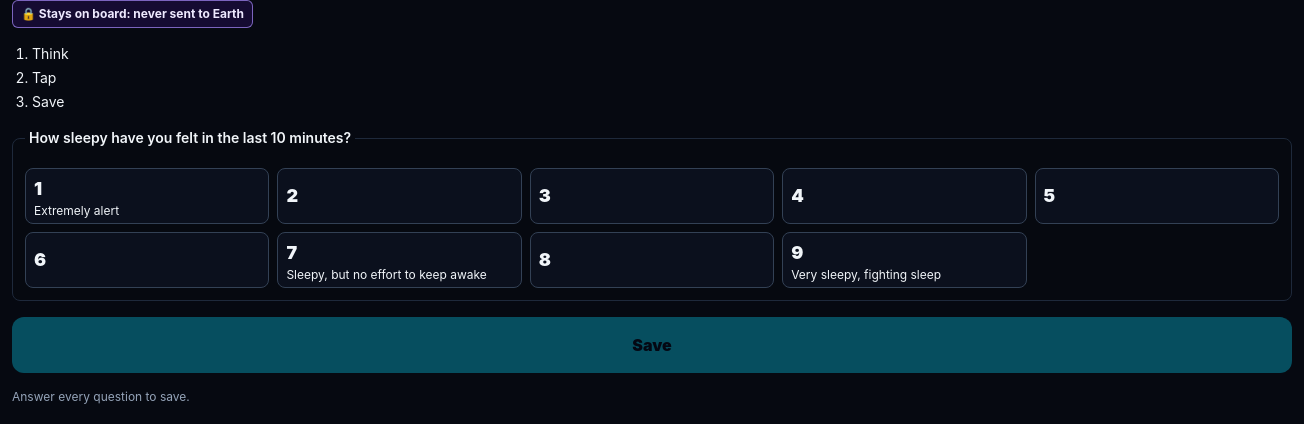
T-4 Questionnaire › KSS: tap an anchored answer, save the score, say it stays on board
The image size is (1304, 424).
Expected: the text with test id "onboard-only-badge" shows "never sent to Earth", [21,6,244,21]
Expected: the button with test id "questionnaire-save" is disabled, [12,317,1292,373]
Click the button with test id "answer-0-8": (652, 260) [530,232,774,288]
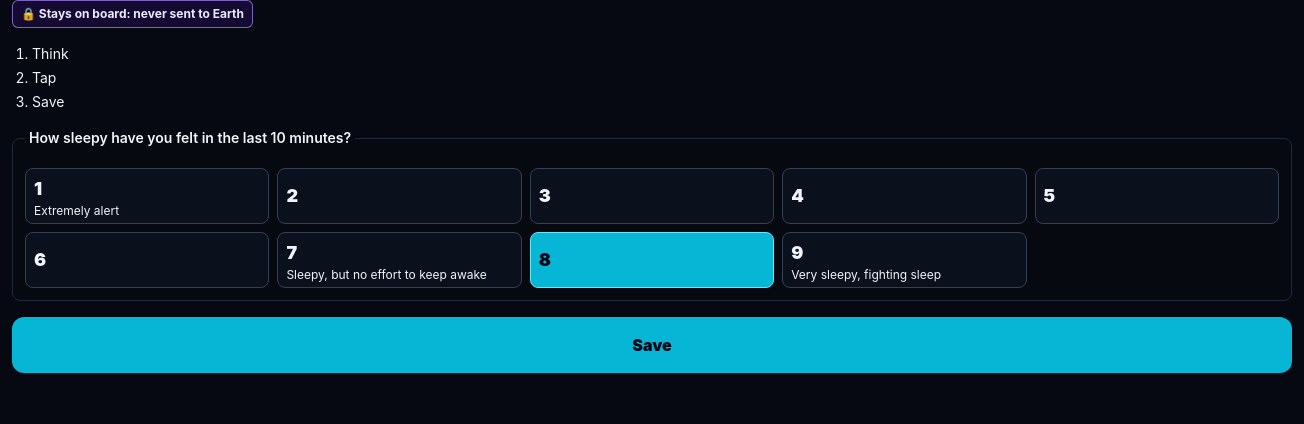
Click the button with test id "questionnaire-save": (652, 345) [12,317,1292,373]
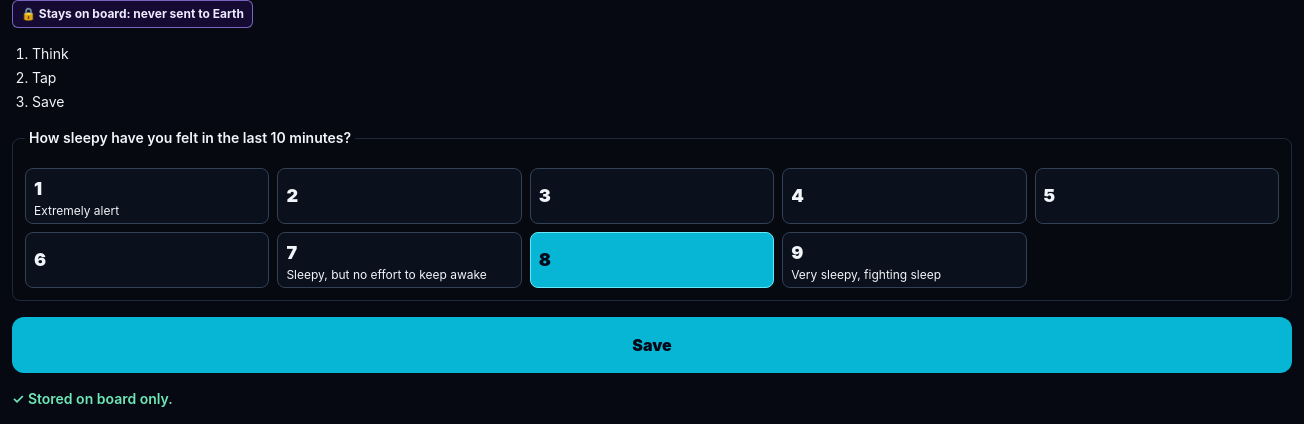
Expected: the message shows "Stored on board only.", [12,390,173,407]
